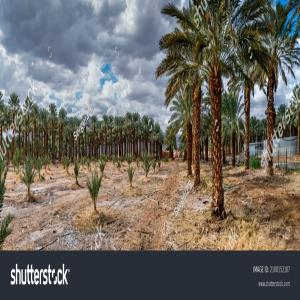palm tree: (248, 0, 300, 176), (221, 88, 245, 166)
